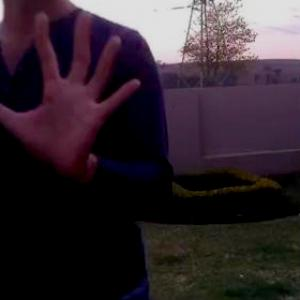follow_hand: (1, 5, 146, 184)
